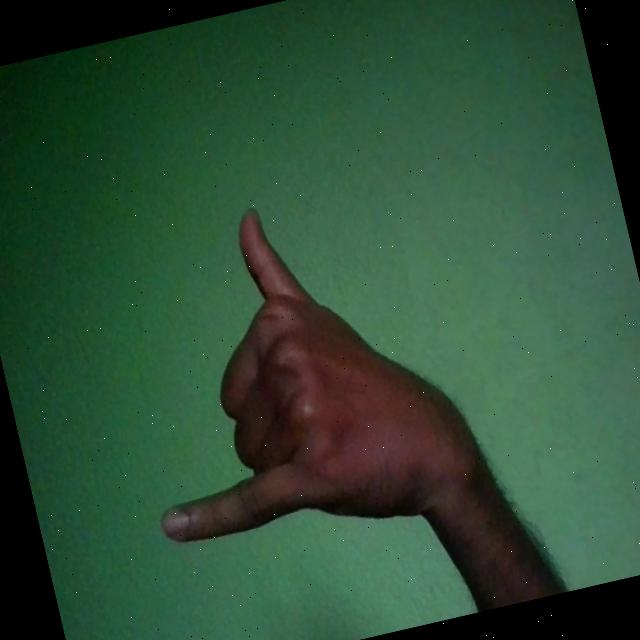Call Me: (97, 170, 490, 574)
